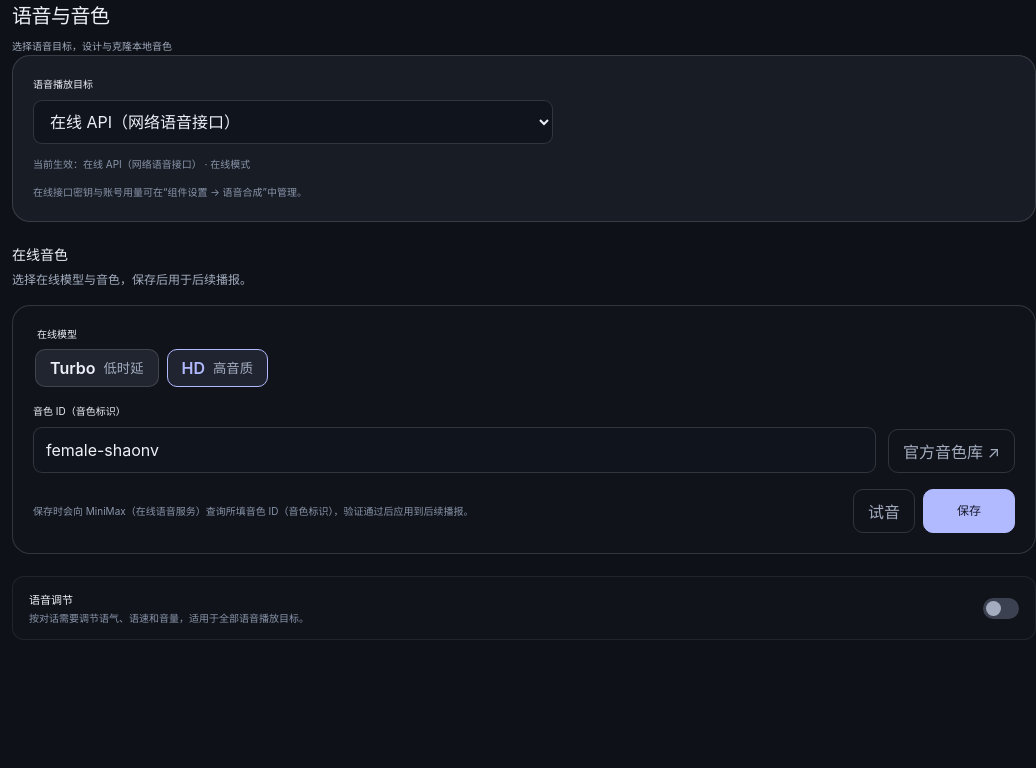
it: 音色设置只提供资源完整的本地模型 › 语音调节保存失败恢复原开关，显式关闭值不会被缺省值覆盖
Step 1. Click the switch named "语音调节" → (51, 600), box [12,576,1035,640]
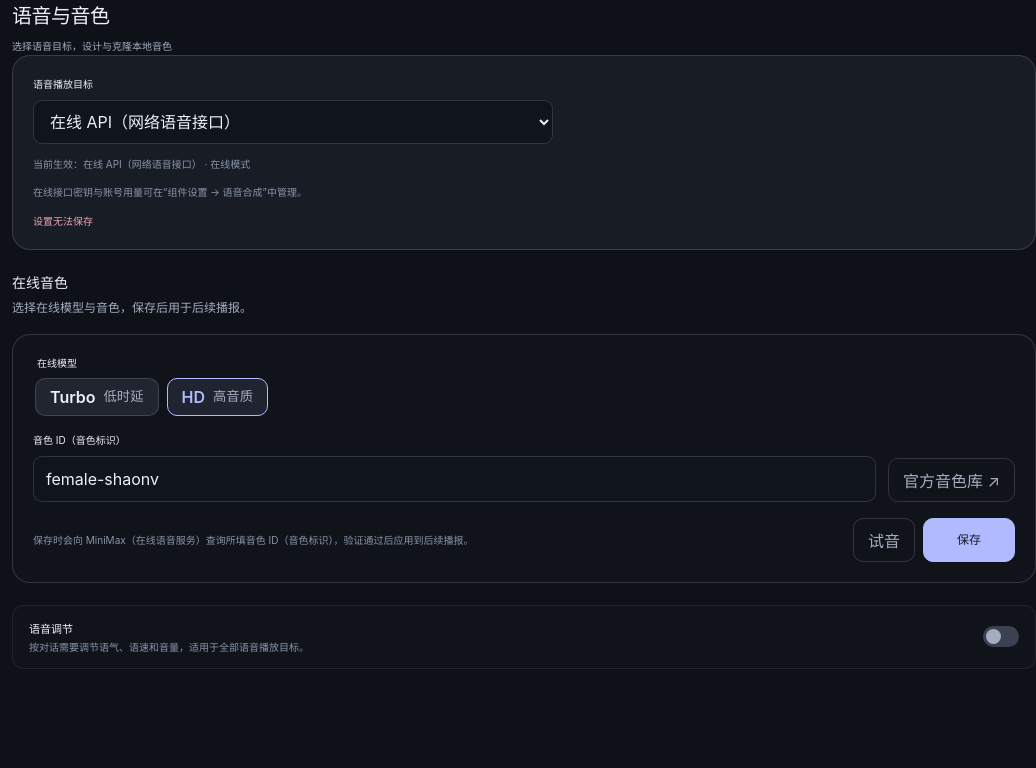
Expected: the switch named "语音调节" is not checked, [12,605,1035,669]
Result: the text "设置无法保存" is shown at [33,214,93,226]
